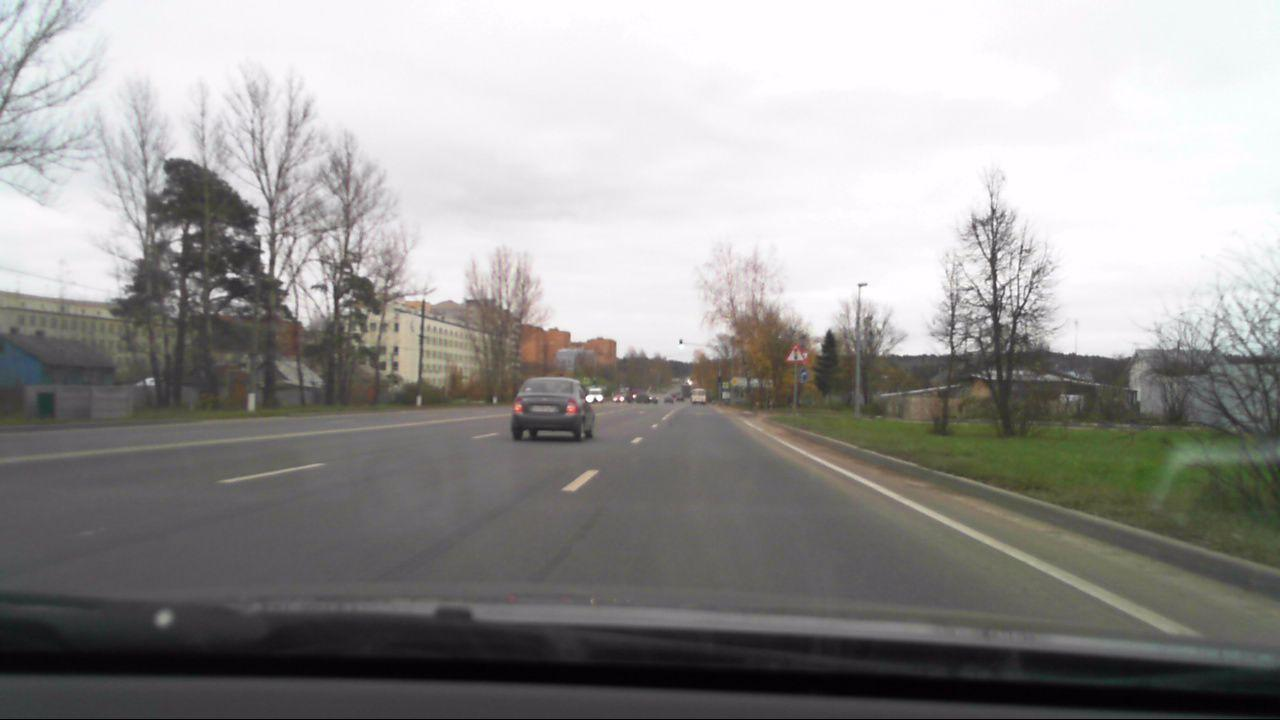1_8: (786, 345, 806, 363)
4_1_2: (798, 369, 808, 383)
